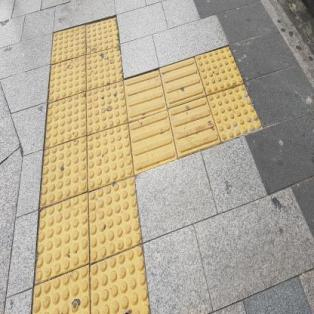Podoctatil: (28, 11, 268, 313)
